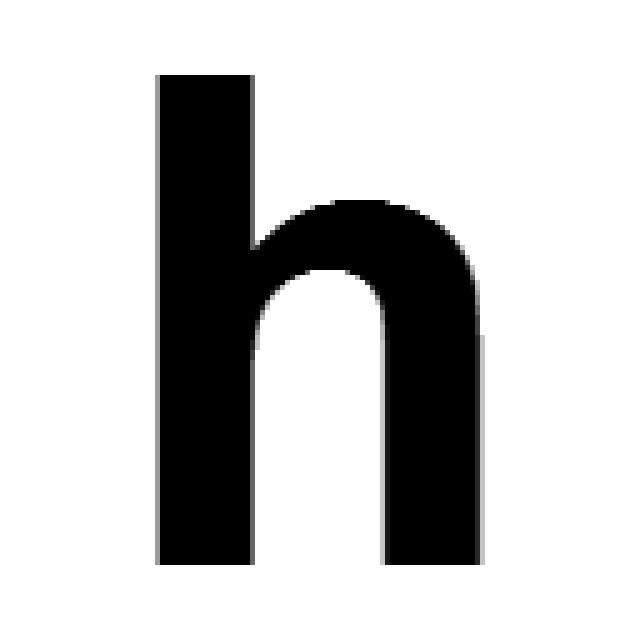H: (145, 65, 485, 570)
